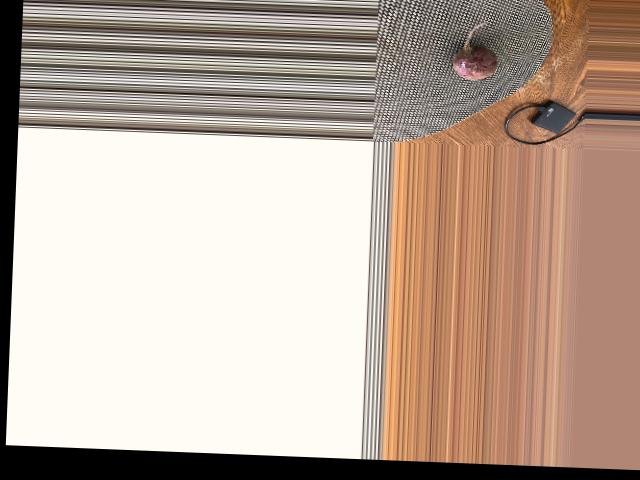beet: (452, 20, 499, 80)
